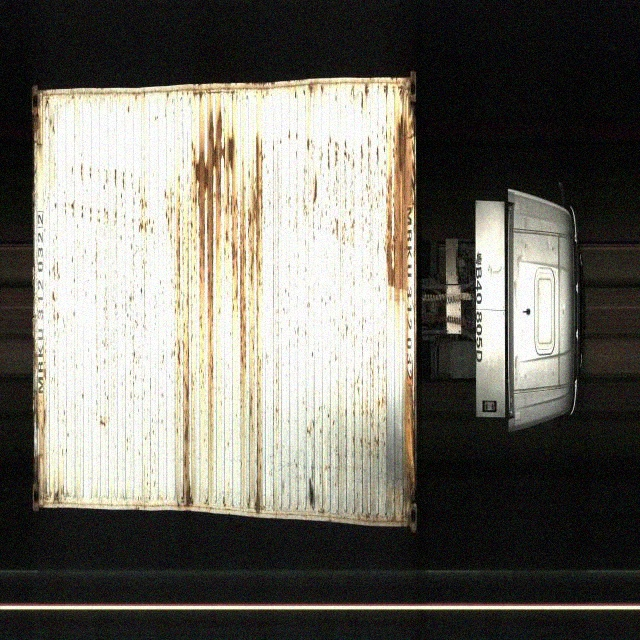Rusty: (195, 111, 238, 264), (240, 142, 265, 361), (175, 223, 192, 513), (389, 110, 413, 298), (403, 354, 418, 523), (35, 373, 47, 507), (36, 82, 49, 176)
